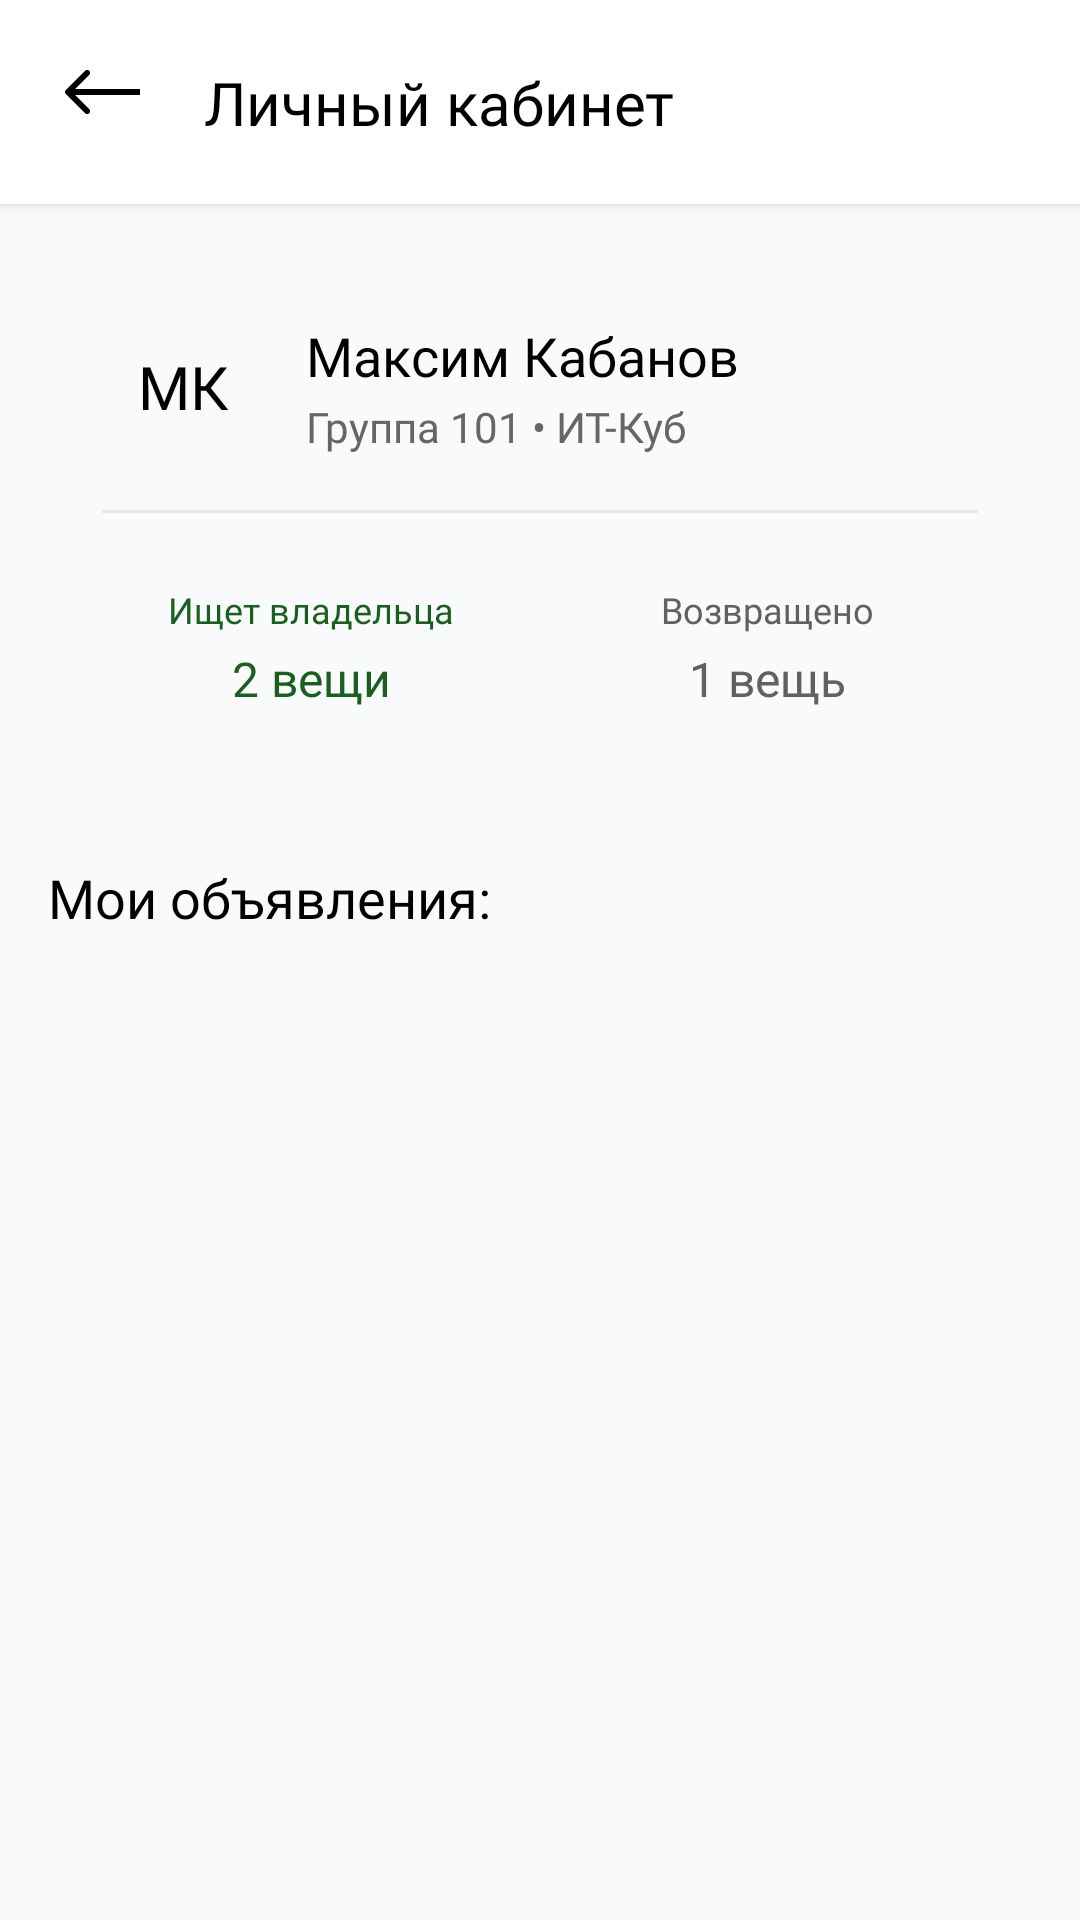

Icons on this 1080x1920 Android screen, each with the point to tap as (x=x, y=y):
Назад: (x=102, y=92)
